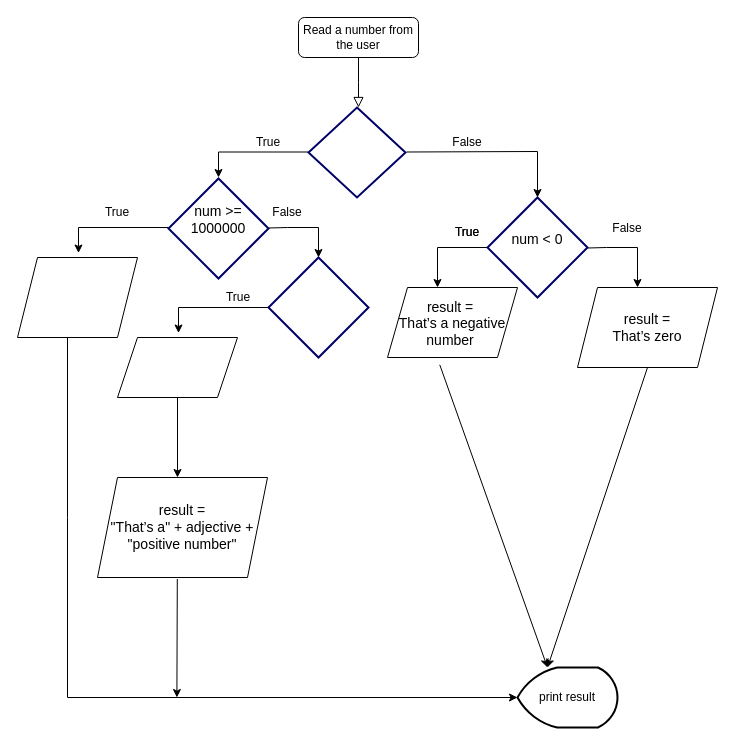
Some shapes in this 735 by 746 pixel diagram are drawn without their labels. The shapes that lost their labels are listed below. From the top down, each one's centre as x and y in pixels, then its label:
At [356,152]: "num > 0".
At [77,297]: "adjective = really big".
At [318,307]: "num >= 1000".
At [177,367]: "adjective = big".
